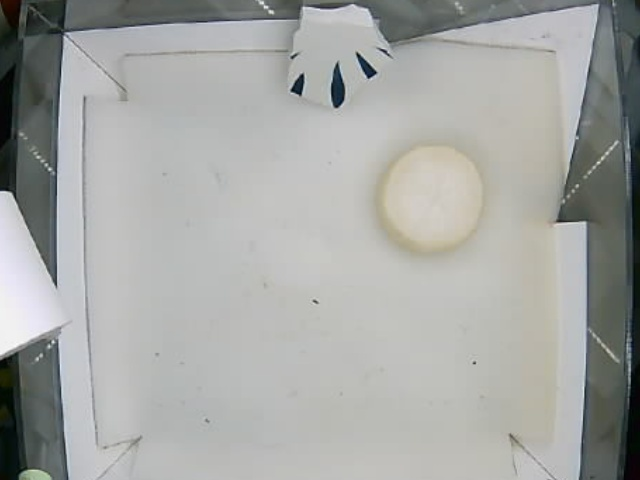China: (293, 4, 392, 111)
Mooli: (375, 143, 488, 257)
